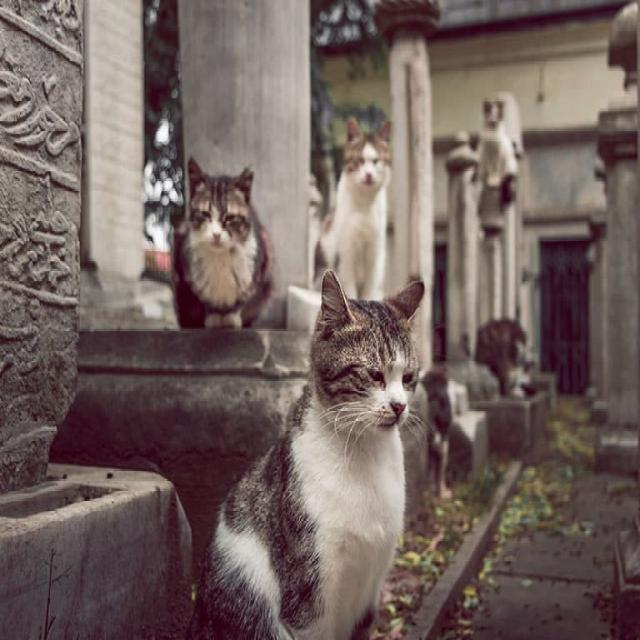cat: (194, 270, 424, 638), (172, 157, 272, 328), (315, 118, 391, 299), (480, 98, 518, 188)
